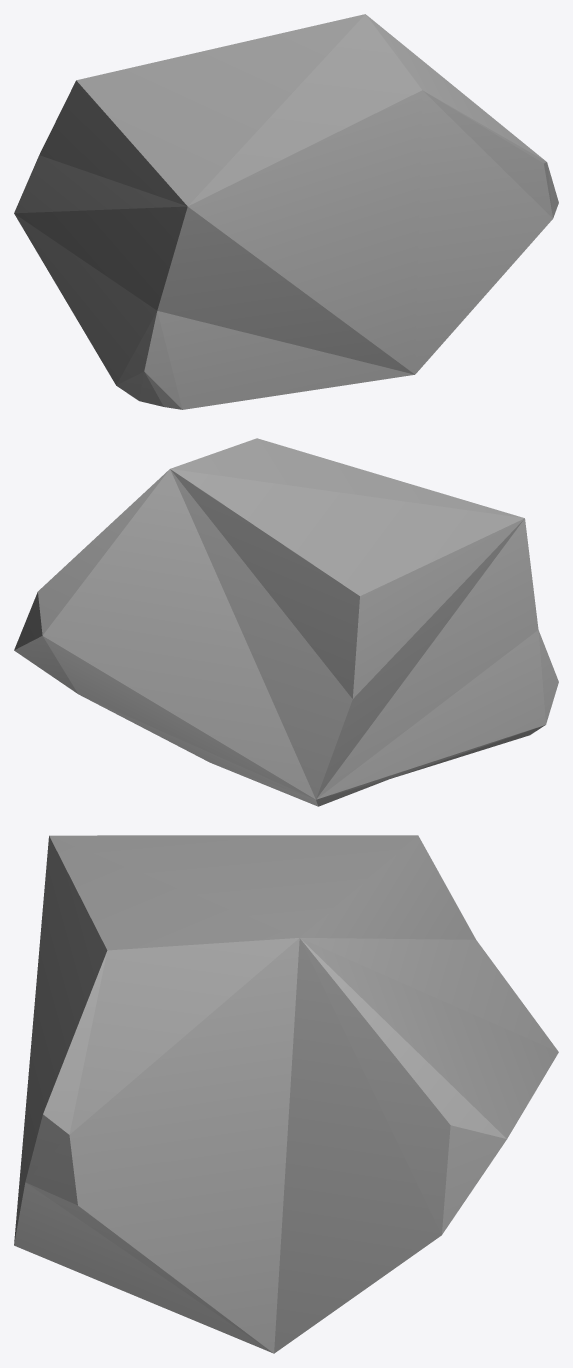
Rendered from stone-small-13.glb.
The picture shows the model from 3 angles, top to bottom: view 1: azimuth 30°, elevation 25°; view 2: azimuth 150°, elevation 25°; view 3: azimuth 270°, elevation 25°; orthographic projection. The views are drawn at different scales.
Visible parts, largest first — view 1: stone small 13; view 2: stone small 13; view 3: stone small 13.
Part boxes in pixels (left/top/right/bottom): stone small 13: left=14, top=14, right=558, bottom=409; stone small 13: left=14, top=438, right=558, bottom=806; stone small 13: left=14, top=835, right=558, bottom=1353.
Size of the model in its own units: 0.6214 by 0.4093 by 0.5251.
1 material, 1 textured.
